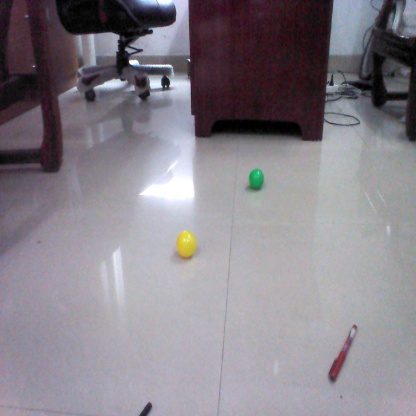ball: (175, 229, 199, 257), (247, 166, 267, 188)
pen: (327, 326, 361, 381)
